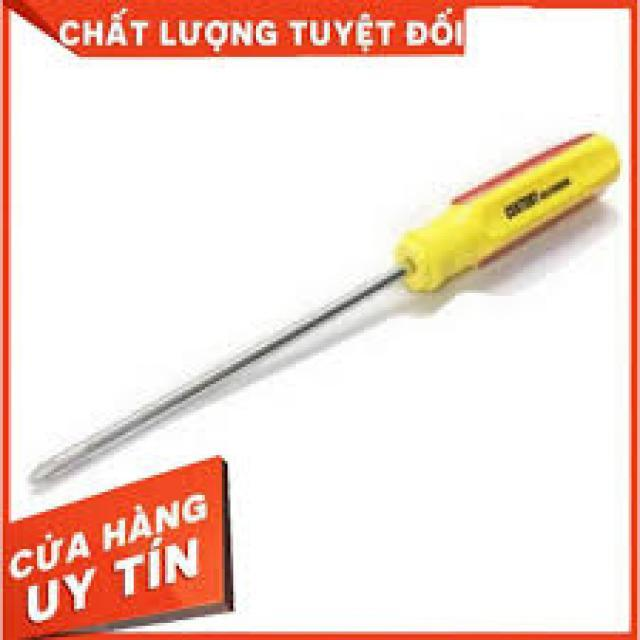screwdriver: (23, 130, 623, 490)
